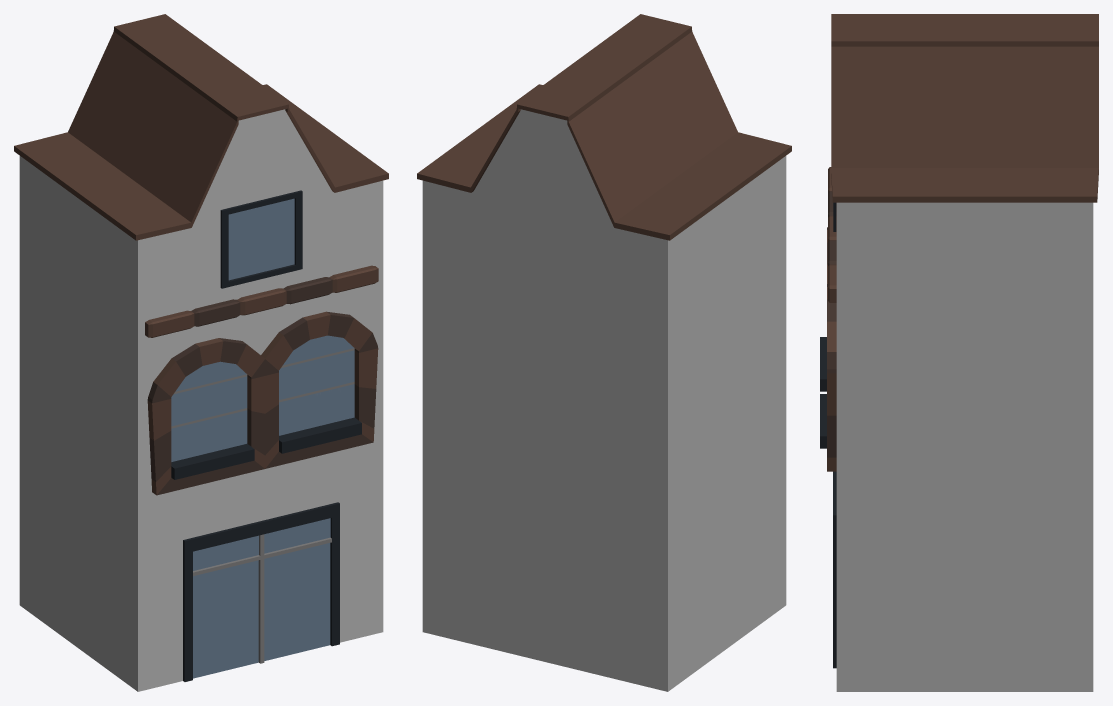
The model's file is House2Level3.fbx.
3 renders of one model, left to right at view 1: azimuth 30°, elevation 25°; view 2: azimuth 150°, elevation 25°; view 3: azimuth 270°, elevation 25°, orthographic. The views are drawn at different scales.
Visible parts, largest first — view 1: House2Lvl3.001; view 2: House2Lvl3.001; view 3: House2Lvl3.001.
Part boxes in pixels (x1,y1,x2,y2): House2Lvl3.001: (14, 14, 388, 691); House2Lvl3.001: (417, 14, 791, 691); House2Lvl3.001: (820, 14, 1098, 691).
Bounding box in the file's own units: 62.79 × 131 × 55.35.
